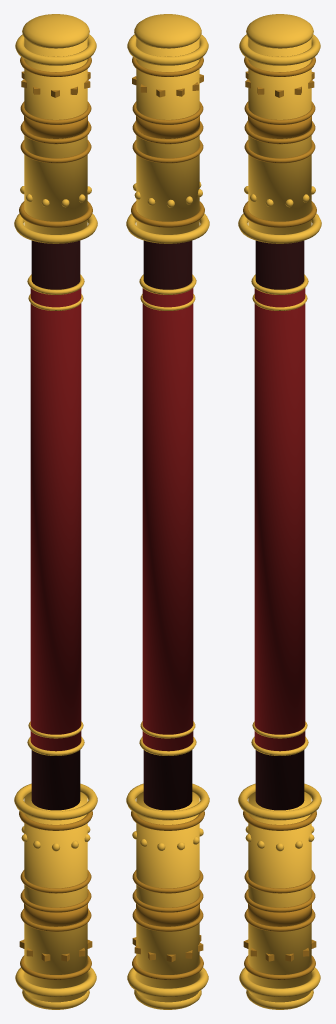
File: jingu_bang.glb
3 views of the same model, side by side, from view 1: azimuth 90°, elevation 25°; view 2: azimuth 150°, elevation 25°; view 3: azimuth 270°, elevation 25° (orthographic).
Visible parts, largest first — view 1: jingu_bang; view 2: jingu_bang; view 3: jingu_bang.
Part boxes in pixels (x1,y1,x2,y2): jingu_bang: (14,14,97,1009); jingu_bang: (126,14,209,1009); jingu_bang: (238,14,321,1009).
Size of the model in its own units: 0.0773 by 1 by 0.0773.
